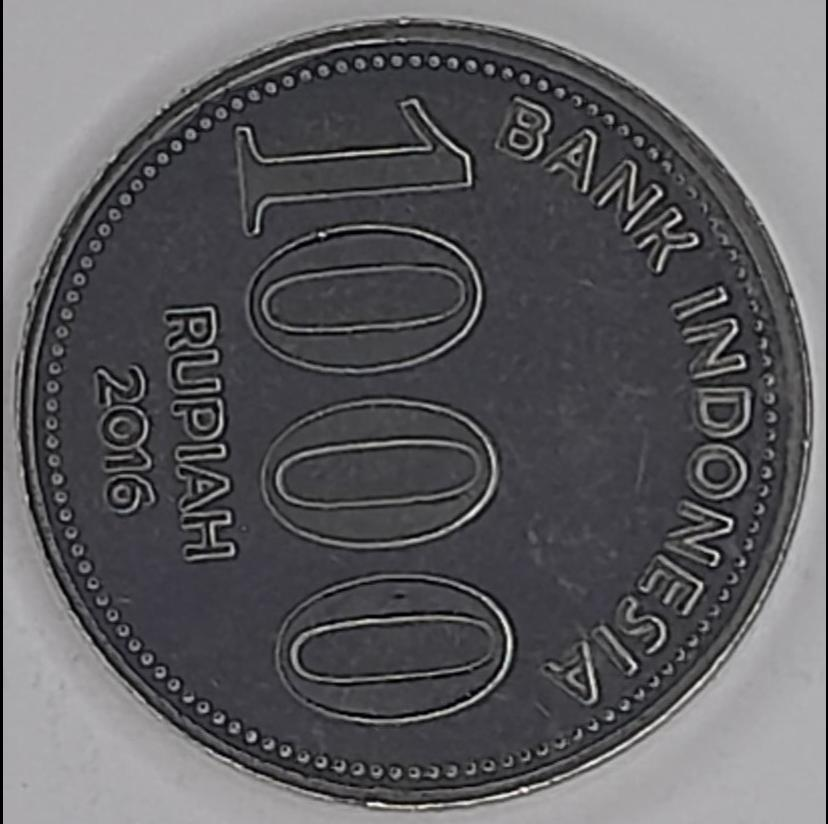coin_1000_e2016: (14, 16, 817, 824)
